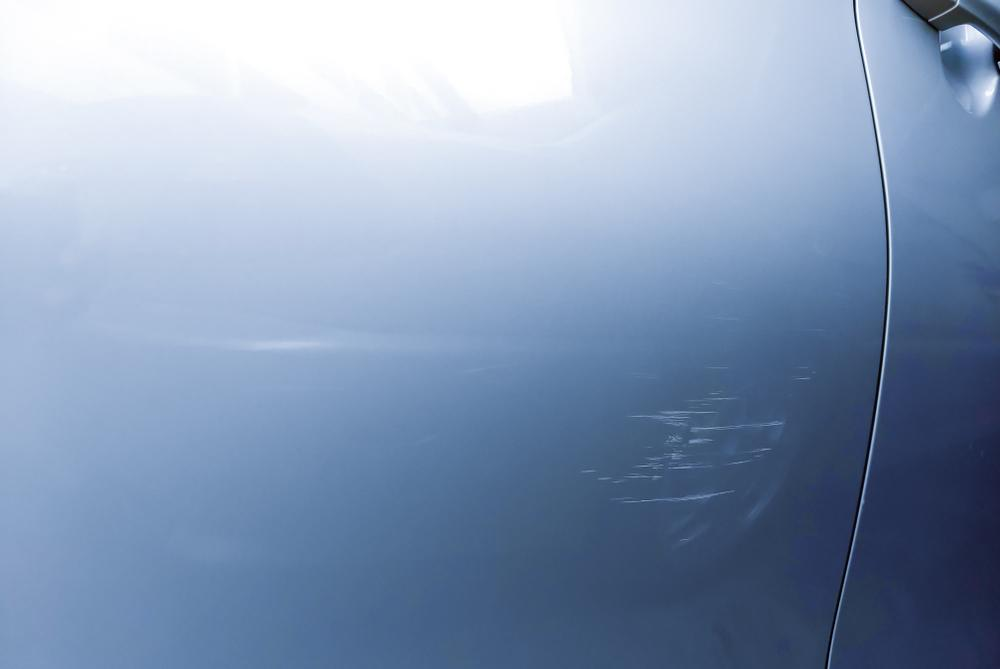scratch: (577, 282, 824, 546)
